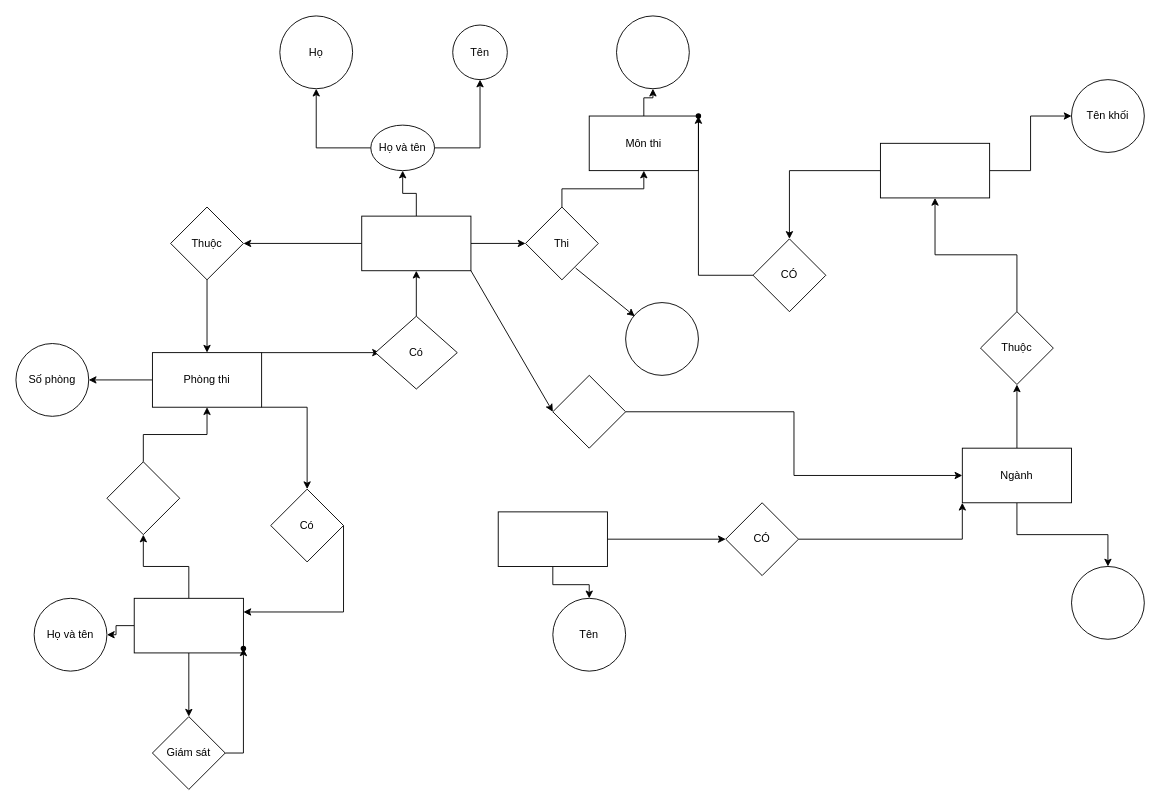
This 1160x805 diagram has some shape labels left out. The box of each missing label's shape, as (x1, y1, x2, y2) in pixels:
Coi: (106, 461, 180, 535)
Giám thị: (133, 597, 243, 653)
Khối Thi: (880, 142, 990, 198)
Mã ngành: (1071, 566, 1144, 639)
Thí Sinh: (361, 215, 471, 271)
Trường: (497, 511, 607, 566)
Tên Môn: (616, 15, 689, 89)
Điểm: (625, 302, 698, 375)
Đăng ký: (552, 374, 626, 448)
